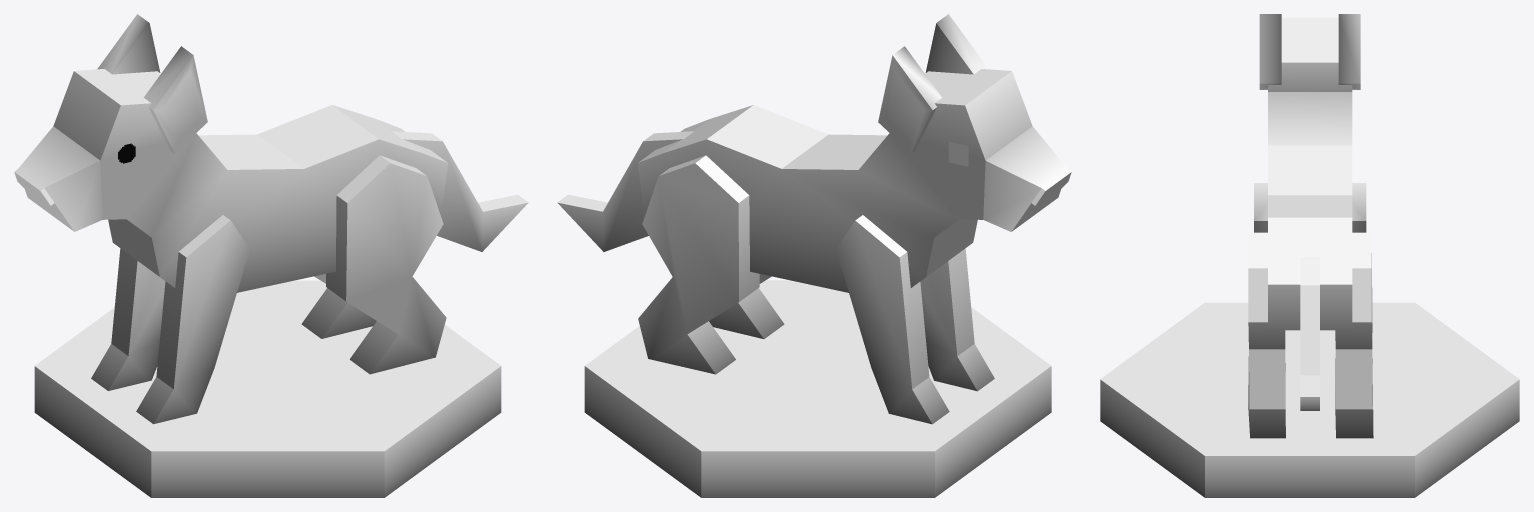
The model's file is Dog.fbx.
3 renders of one model, left to right at view 1: azimuth 30°, elevation 25°; view 2: azimuth 150°, elevation 25°; view 3: azimuth 270°, elevation 25°, orthographic. The views are drawn at different scales.
Visible parts, largest first — view 1: Cube, Base; view 2: Cube, Base; view 3: Base, Cube.
Boxes of the visible parts, left/top/right/bottom form: Cube: left=14, top=14, right=528, bottom=424; Base: left=34, top=280, right=501, bottom=497; Cube: left=557, top=14, right=1071, bottom=424; Base: left=584, top=280, right=1051, bottom=497; Base: left=1100, top=302, right=1519, bottom=497; Cube: left=1248, top=14, right=1373, bottom=438.
Bounding box in the file's own units: 356 × 277 × 290.
